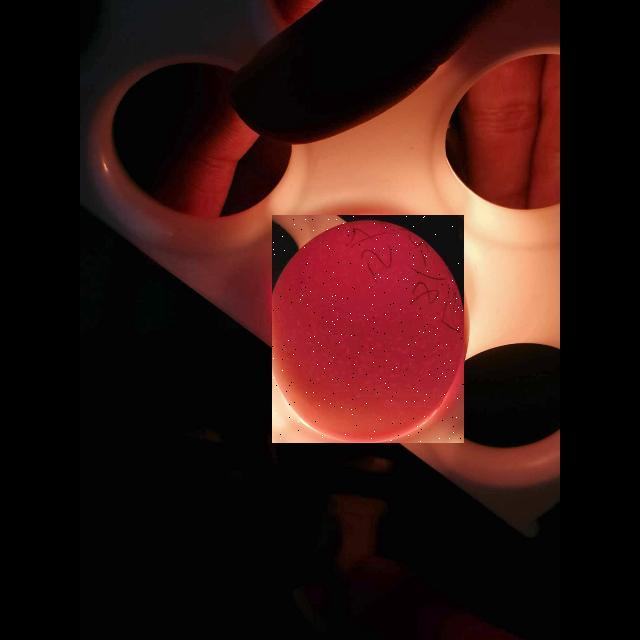Fertile: (272, 215, 464, 443)
